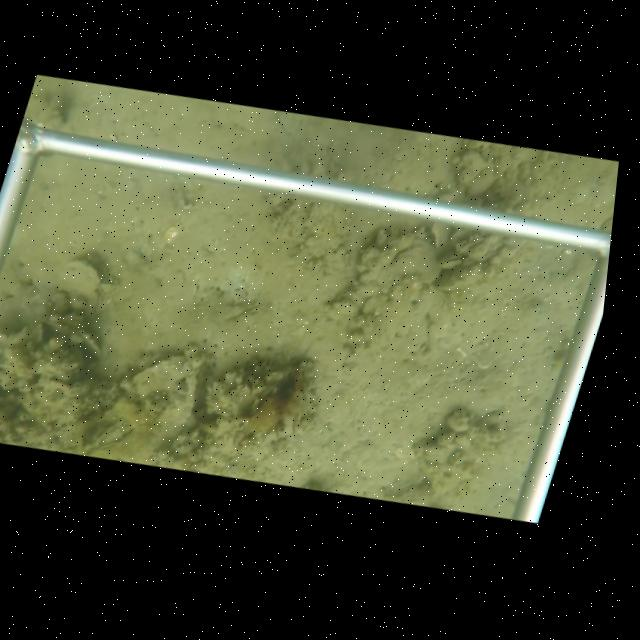Oyster-Closed: (119, 353, 209, 458), (58, 254, 104, 319), (72, 330, 103, 360)
Oyster-Indeterminate: (343, 245, 441, 309), (430, 221, 453, 250)
Oyster-Open: (438, 252, 462, 271)
